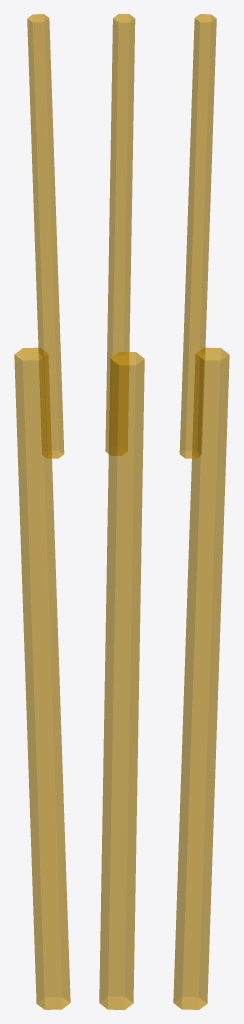
The model's file is SM_Veh_Ship_M_Mast_Back_02_Collision.fbx.
3 views of the same model, side by side, from view 1: azimuth 90°, elevation 25°; view 2: azimuth 210°, elevation 25°; view 3: azimuth 270°, elevation 25° (orthographic).
Parts seen in each view (by area): view 1: SM_Veh_Ship_M_Mast_Back_02_Collision; view 2: SM_Veh_Ship_M_Mast_Back_02_Collision; view 3: SM_Veh_Ship_M_Mast_Back_02_Collision.
Boxes of the visible parts, x1=… form: SM_Veh_Ship_M_Mast_Back_02_Collision: x1=14, y1=14, x2=70, y2=1009; SM_Veh_Ship_M_Mast_Back_02_Collision: x1=99, y1=14, x2=144, y2=1009; SM_Veh_Ship_M_Mast_Back_02_Collision: x1=173, y1=14, x2=229, y2=1009.
Size of the model in its own units: 82.24 by 3025 by 157.
